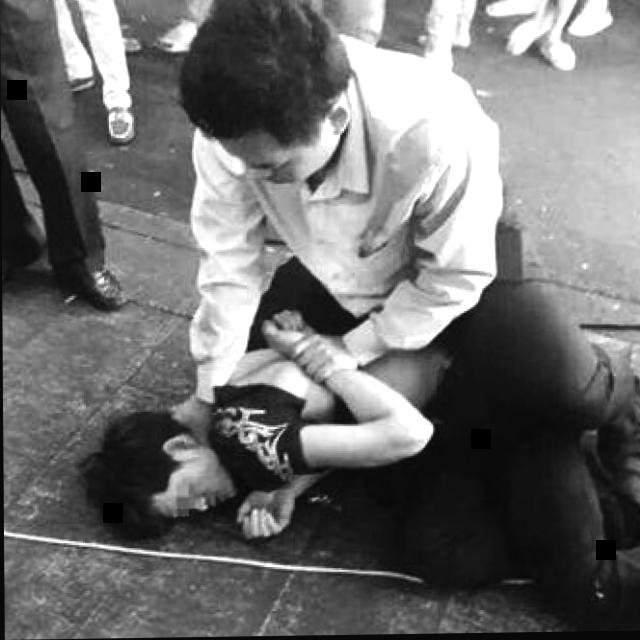Fall-Detected: (67, 290, 414, 551)
